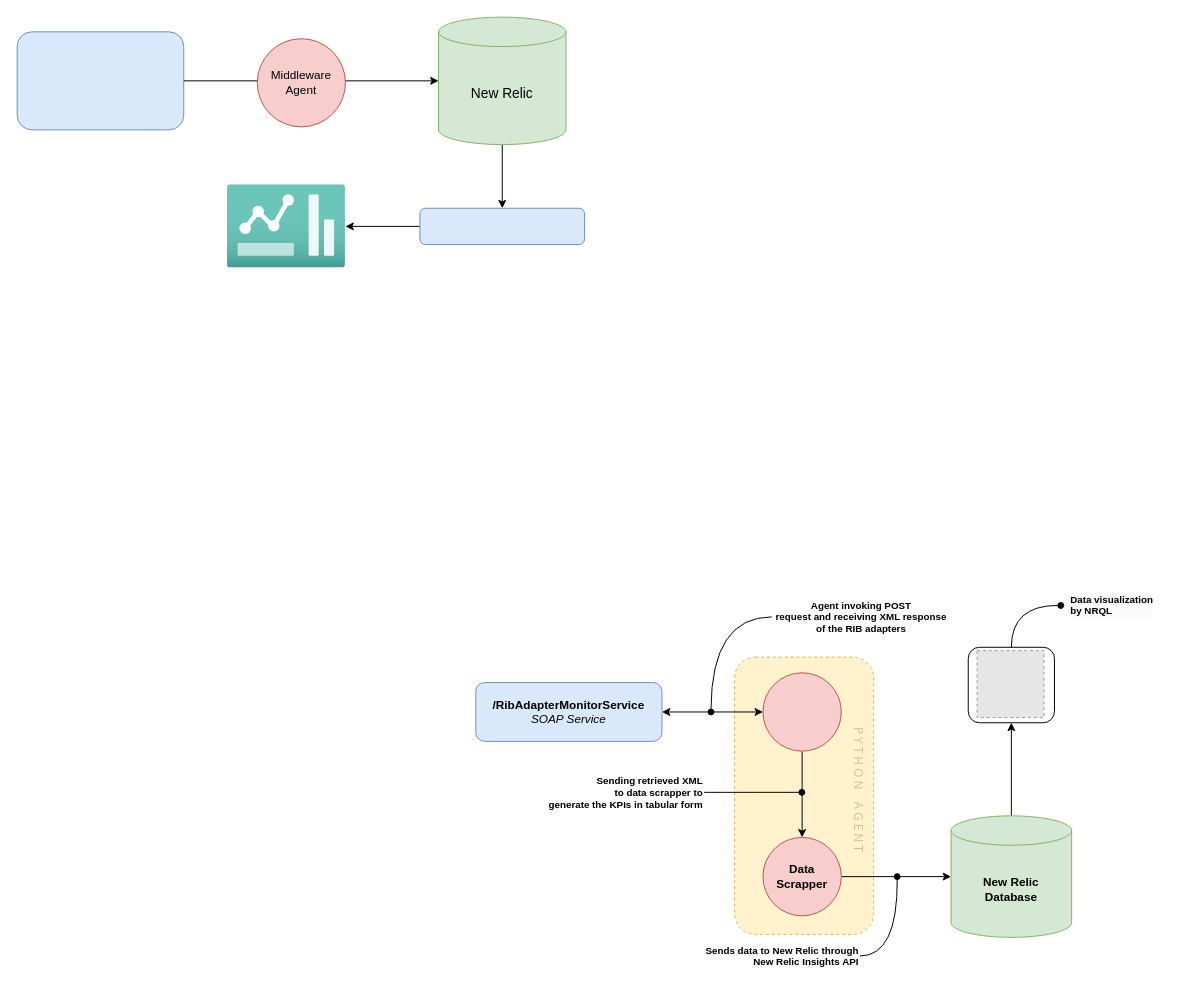
Some shapes in this 1196 by 991 pixel diagram are drawn without their labels. Grey dashed boxes stand in for pictures. The shapes that lost their labels are listed below. From the top down, each one's centre as x and y in pixels, then its label:
At (x=100, y=80): "/ RibAppMonitorService SOAP Service".
At (x=502, y=226): "Reflecting the data to dashboard through NRQL".
At (x=801, y=711): "API caller".
